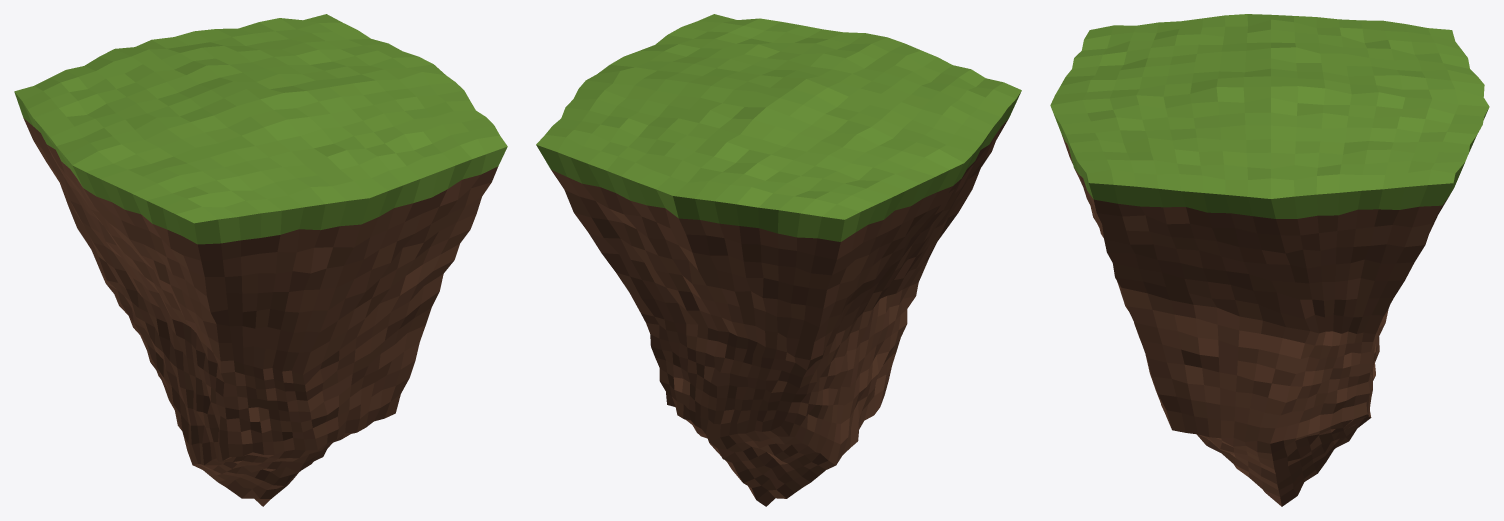
Rendered from Island Test.glb.
The picture shows the model from 3 angles, left to right: view 1: azimuth 30°, elevation 25°; view 2: azimuth 150°, elevation 25°; view 3: azimuth 270°, elevation 25°; orthographic projection. The views are drawn at different scales.
Visible parts, largest first — view 1: Cube; view 2: Cube; view 3: Cube.
Boxes of the visible parts, x1=… form: Cube: x1=14, y1=14, x2=507, y2=506; Cube: x1=536, y1=14, x2=1021, y2=506; Cube: x1=1050, y1=14, x2=1489, y2=506.
Bounding box in the file's own units: 355 × 377 × 360.
Materials: 1 (1 with a texture image).
